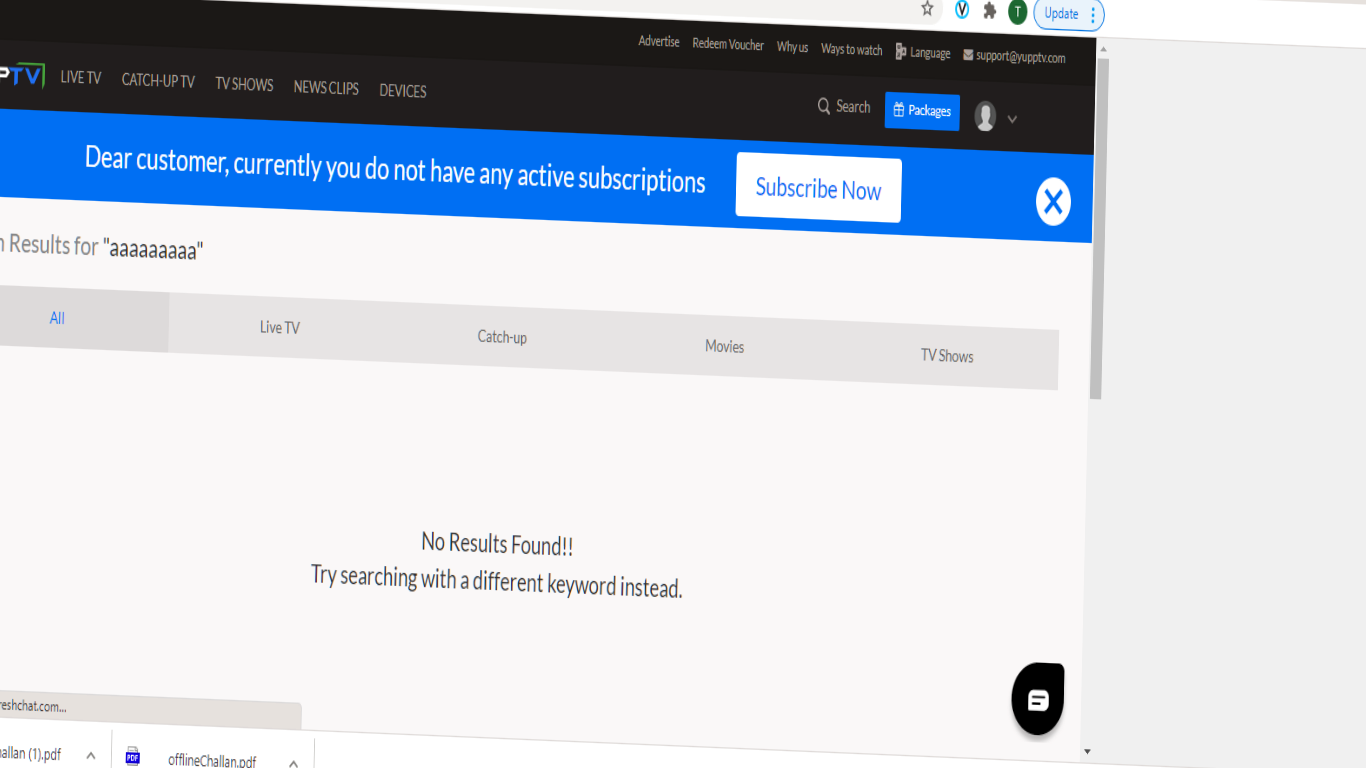noresultsfound: (214, 493, 715, 605), (1, 225, 205, 281)
profileicon: (968, 97, 1014, 137)
searchicon: (815, 88, 879, 129)
